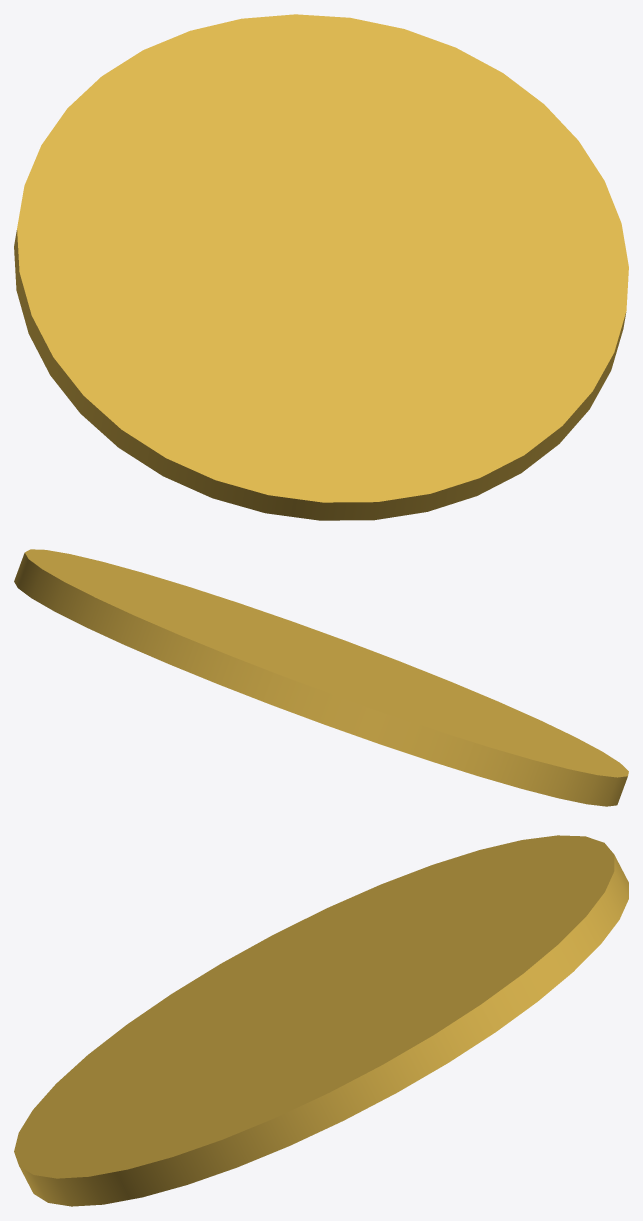
3 renders of one model, top to bottom at view 1: azimuth 30°, elevation 25°; view 2: azimuth 150°, elevation 25°; view 3: azimuth 270°, elevation 25°, orthographic. The views are drawn at different scales.
Visible parts, largest first — view 1: Mesh_normal_map_0; view 2: Mesh_normal_map_0; view 3: Mesh_normal_map_0.
Part boxes in pixels (x1,y1,x2,y2): Mesh_normal_map_0: [14, 14, 628, 520]; Mesh_normal_map_0: [14, 549, 628, 806]; Mesh_normal_map_0: [14, 835, 628, 1206].
Size of the model in its own units: 82.46 by 42.25 by 75.71.
